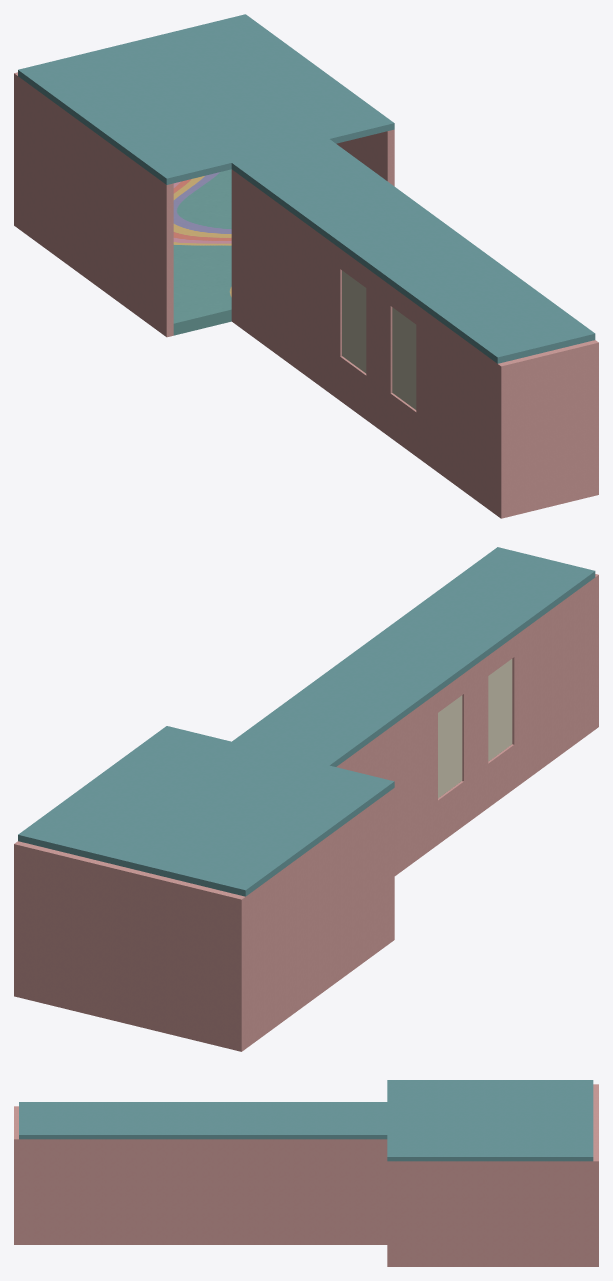
The model's file is wave_corridor.glb.
3 views of the same model, one above another, from view 1: azimuth 30°, elevation 25°; view 2: azimuth 150°, elevation 25°; view 3: azimuth 270°, elevation 25° (orthographic). The views are drawn at different scales.
Visible parts, largest first — view 1: GEO-DREAM-wavecorridor-hall_ceiling, GEO-DREAM-wavecorridor-ceiling, GEO-DREAM-wavecorridor-hall_side_-1, GEO-DREAM-wavecorridor-left_wall_after_doors, GEO-DREAM-wavecorridor-detail_entry_closure_inferred, GEO-DREAM-wavecorridor-left_wall_before_door_0, GEO-DREAM-wavecorridor-hall_floor, GEO-DREAM-wavecorridor-left_wall_before_door_1, GEO-DREAM-wavecorridor-door_1_leaf, GEO-DREAM-wavecorridor-door_0_leaf, GEO-DREAM-wavecorridor-hall_side_1, GEO-DREAM-wavecorridor-left_wall_below_door_0 (+1 smaller); view 2: GEO-DREAM-wavecorridor-hall_back_wall, GEO-DREAM-wavecorridor-hall_ceiling, GEO-DREAM-wavecorridor-ceiling, GEO-DREAM-wavecorridor-hall_side_-1, GEO-DREAM-wavecorridor-left_wall_before_door_0, GEO-DREAM-wavecorridor-left_wall_after_doors, GEO-DREAM-wavecorridor-left_wall_before_door_1, GEO-DREAM-wavecorridor-door_1_leaf, GEO-DREAM-wavecorridor-door_0_leaf, GEO-DREAM-wavecorridor-left_wall_below_door_0, GEO-DREAM-wavecorridor-left_wall_below_door_1; view 3: GEO-DREAM-wavecorridor-right_wall, GEO-DREAM-wavecorridor-hall_side_1, GEO-DREAM-wavecorridor-hall_ceiling, GEO-DREAM-wavecorridor-ceiling, GEO-DREAM-wavecorridor-hall_back_wall, GEO-DREAM-wavecorridor-detail_entry_closure_inferred.
Part boxes in pixels (<box>): GEO-DREAM-wavecorridor-hall_ceiling: <box>18,14,394,184</box>; GEO-DREAM-wavecorridor-ceiling: <box>231,139,595,363</box>; GEO-DREAM-wavecorridor-hall_side_-1: <box>18,76,173,337</box>; GEO-DREAM-wavecorridor-left_wall_after_doors: <box>231,169,341,400</box>; GEO-DREAM-wavecorridor-detail_entry_closure_inferred: <box>497,340,598,518</box>; GEO-DREAM-wavecorridor-left_wall_before_door_0: <box>416,304,497,515</box>; GEO-DREAM-wavecorridor-hall_floor: <box>173,169,231,335</box>; GEO-DREAM-wavecorridor-left_wall_before_door_1: <box>366,268,392,437</box>; GEO-DREAM-wavecorridor-door_1_leaf: <box>342,270,366,373</box>; GEO-DREAM-wavecorridor-door_0_leaf: <box>392,307,416,409</box>; GEO-DREAM-wavecorridor-hall_side_1: <box>336,129,394,186</box>; GEO-DREAM-wavecorridor-left_wall_below_door_0: <box>390,393,416,456</box>; GEO-DREAM-wavecorridor-hall_back_wall: <box>14,841,245,1051</box>; GEO-DREAM-wavecorridor-hall_ceiling: <box>18,726,394,896</box>; GEO-DREAM-wavecorridor-ceiling: <box>232,547,595,766</box>; GEO-DREAM-wavecorridor-hall_side_-1: <box>245,788,394,1048</box>; GEO-DREAM-wavecorridor-left_wall_before_door_0: <box>512,578,595,788</box>; GEO-DREAM-wavecorridor-left_wall_after_doors: <box>336,693,437,875</box>; GEO-DREAM-wavecorridor-left_wall_before_door_1: <box>462,656,488,825</box>; GEO-DREAM-wavecorridor-door_1_leaf: <box>438,695,462,798</box>; GEO-DREAM-wavecorridor-door_0_leaf: <box>488,659,512,761</box>; GEO-DREAM-wavecorridor-left_wall_below_door_0: <box>488,744,514,807</box>; GEO-DREAM-wavecorridor-left_wall_below_door_1: <box>438,781,463,844</box>; GEO-DREAM-wavecorridor-right_wall: <box>19,1139,387,1244</box>; GEO-DREAM-wavecorridor-hall_side_1: <box>387,1161,593,1266</box>; GEO-DREAM-wavecorridor-hall_ceiling: <box>387,1080,593,1161</box>; GEO-DREAM-wavecorridor-ceiling: <box>19,1102,387,1139</box>; GEO-DREAM-wavecorridor-hall_back_wall: <box>593,1084,598,1266</box>; GEO-DREAM-wavecorridor-detail_entry_closure_inferred: <box>14,1106,18,1244</box>.
Size of the model in its own units: 5.96 by 3.97 by 19.14.
Materials: 11 (5 with a texture image).
